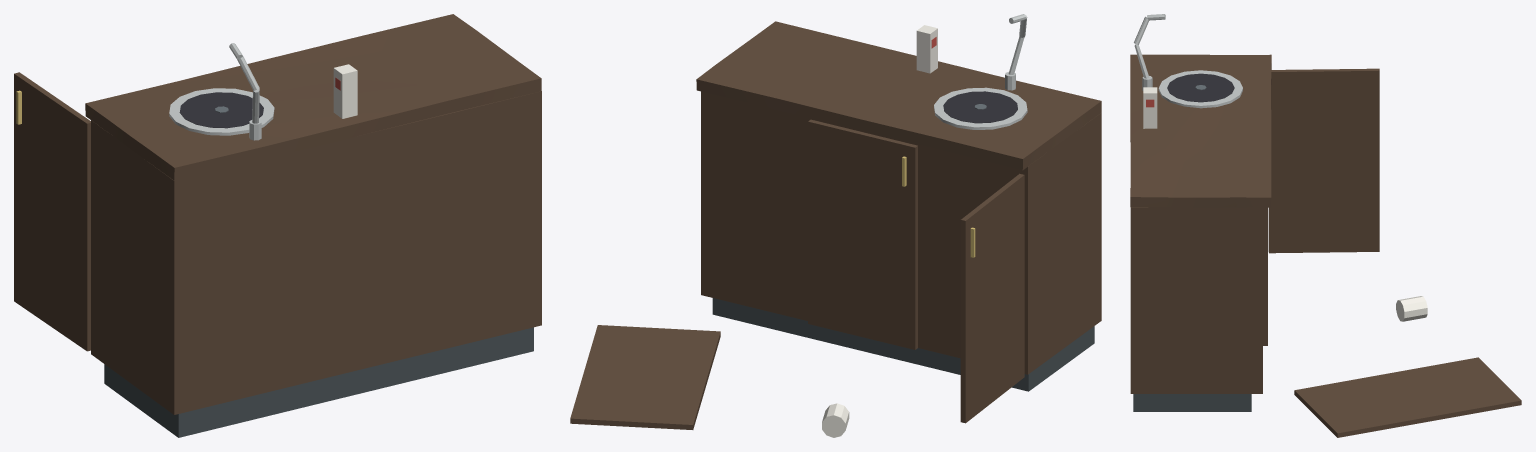
The model's file is sink_cabinet_broken.fbx.
The picture shows the model from 3 angles, left to right: view 1: azimuth 30°, elevation 25°; view 2: azimuth 150°, elevation 25°; view 3: azimuth 270°, elevation 25°; orthographic projection. The views are drawn at different scales.
Visible parts, largest first — view 1: sink_cabinet_broken; view 2: sink_cabinet_broken, sink_cabinet_broken_debris; view 3: sink_cabinet_broken, sink_cabinet_broken_debris.
Boxes of the visible parts, left/top/right/bottom form: sink_cabinet_broken: left=14, top=14, right=541, bottom=437; sink_cabinet_broken: left=696, top=14, right=1101, bottom=423; sink_cabinet_broken_debris: left=570, top=325, right=849, bottom=437; sink_cabinet_broken: left=1130, top=14, right=1379, bottom=411; sink_cabinet_broken_debris: left=1294, top=296, right=1521, bottom=437.
Bounding box in the file's own units: 145 × 113 × 139.
